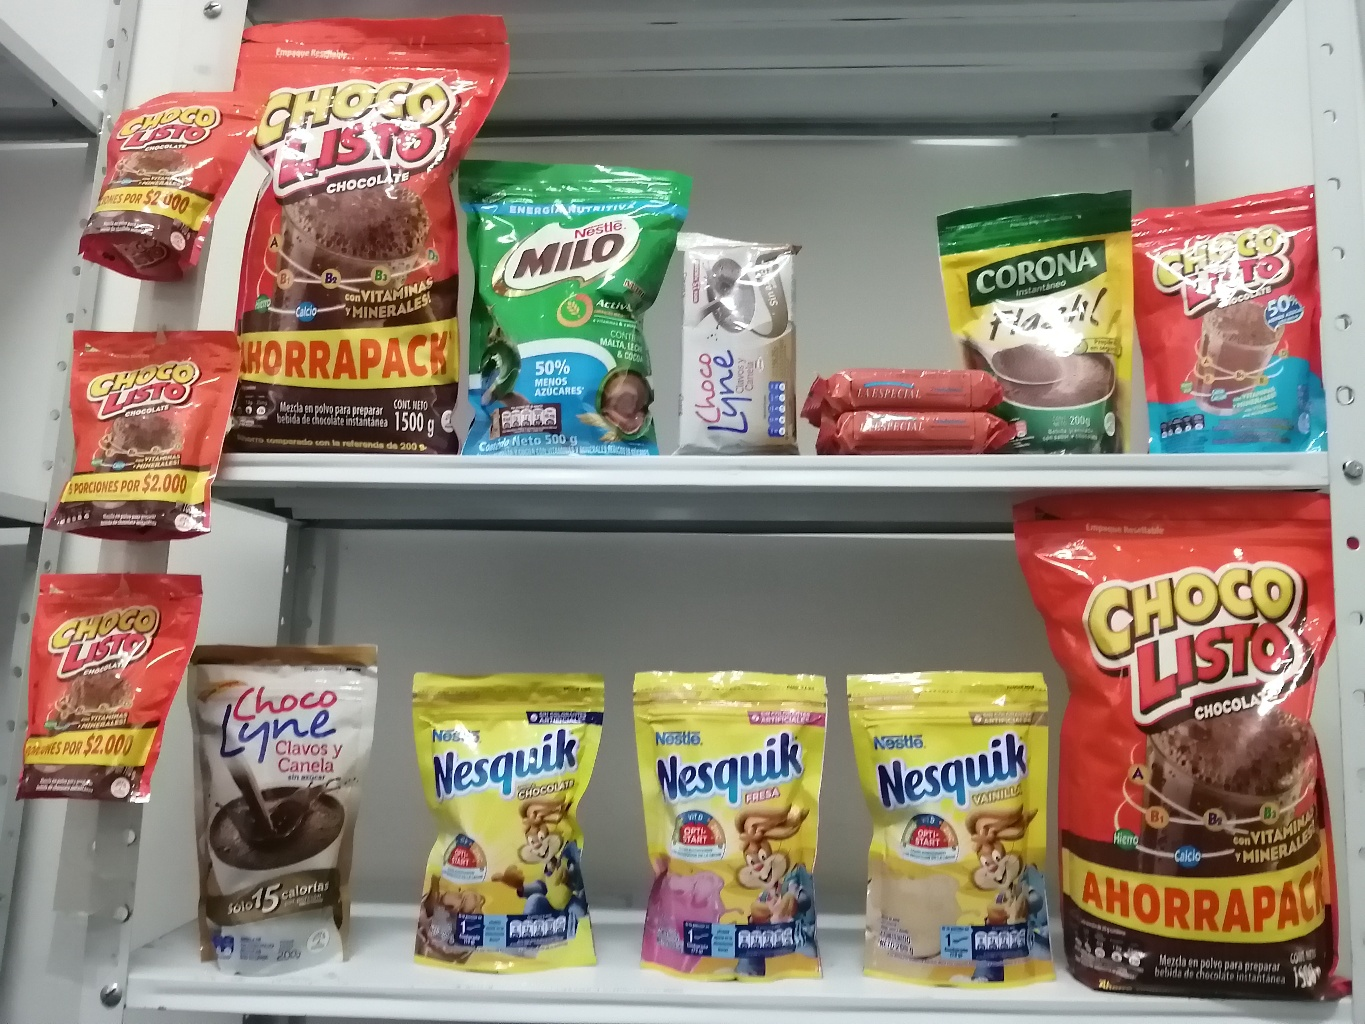COL0170103DYP1,500: (234, 8, 508, 447)
COL0170104DYP20000: (1127, 180, 1332, 455)
COL0170205DYP50000: (467, 144, 694, 460)
COL0170303DYP20000: (403, 646, 625, 986)
COL0170305DYP20000: (627, 652, 837, 989)
COL0170306DYP20000: (839, 663, 1054, 989)
